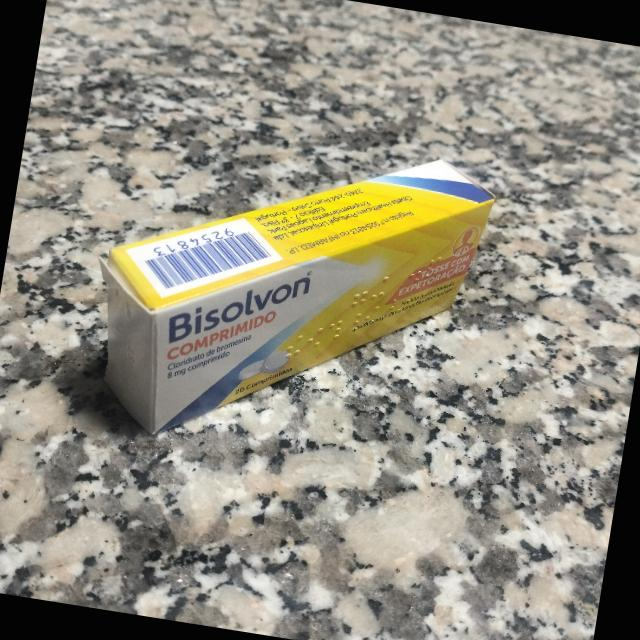caixa: (71, 106, 504, 485)
